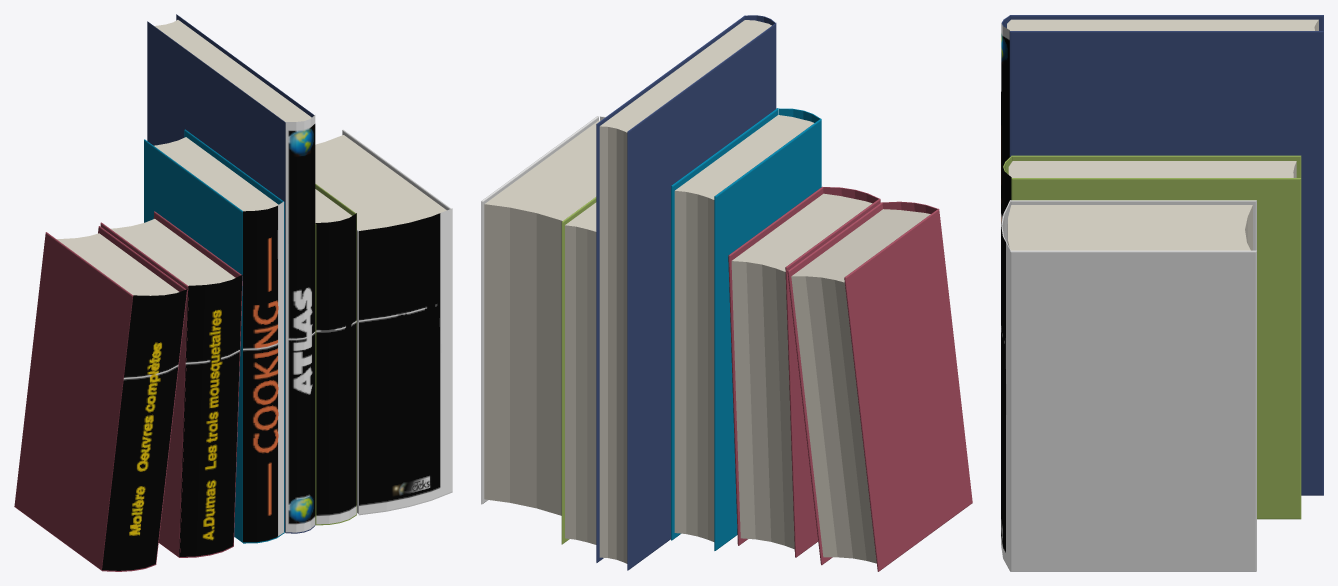
Rendered from sweethome3d-contributions-books.glb.
3 views of the same model, side by side, from view 1: azimuth 30°, elevation 25°; view 2: azimuth 150°, elevation 25°; view 3: azimuth 270°, elevation 25° (orthographic). The views are drawn at different scales.
Visible parts, largest first — view 1: titles_tranche_4.001, face_avant_5, face_avant_2, face_avant_1, pages_4, face_avant, pages, pages_2, pages_1, pages_5, face_arriere_1, face_arriere_5 (+6 smaller); view 2: face_avant_5, face_avant_2, pages_4, pages, pages_5, pages_1, pages_2, face_avant_1, pages_3, face_avant, face_arriere_2, face_arriere_1 (+4 smaller); view 3: face_arriere_4, face_arriere_2, face_arriere_3, pages_4, pages_3, titles_tranche_4.001, pages_2, face_avant_3, face_avant_2, face_avant_4.
Part boxes in pixels (x1,y1,x2,y2): titles_tranche_4.001: (102,115,452,570); face_avant_5: (14,232,133,570); face_avant_2: (147,21,286,532); face_avant_1: (144,139,242,542); pages_4: (315,135,446,230); face_avant: (100,222,188,557); pages: (110,219,235,285); pages_2: (154,20,311,121); pages_1: (154,137,278,211); pages_5: (56,233,178,295); face_arriere_1: (184,129,284,533); face_arriere_5: (98,226,187,564); face_avant_5: (844,208,972,571); face_avant_2: (627,23,776,570); pages_4: (484,120,600,515); pages: (731,193,872,549); pages_5: (791,209,930,563); pages_1: (674,115,814,541); pages_2: (599,20,771,563); face_avant_1: (714,119,821,550); pages_3: (565,202,596,544); face_avant: (785,198,880,557); face_arriere_2: (596,15,745,562); face_arriere_1: (671,108,778,540); face_arriere_4: (1010,250,1256,571); face_arriere_2: (1009,31,1323,495); face_arriere_3: (1011,178,1301,519); pages_4: (1007,205,1252,250); pages_3: (1008,161,1296,177); titles_tranche_4.001: (1001,23,1011,570); pages_2: (1007,19,1318,30); face_avant_3: (1011,155,1301,177); face_avant_2: (1010,15,1323,30); face_avant_4: (1010,200,1256,250).
Bounding box in the file's own units: 23.99 × 26.95 × 16.88.
8 materials, 1 textured.
